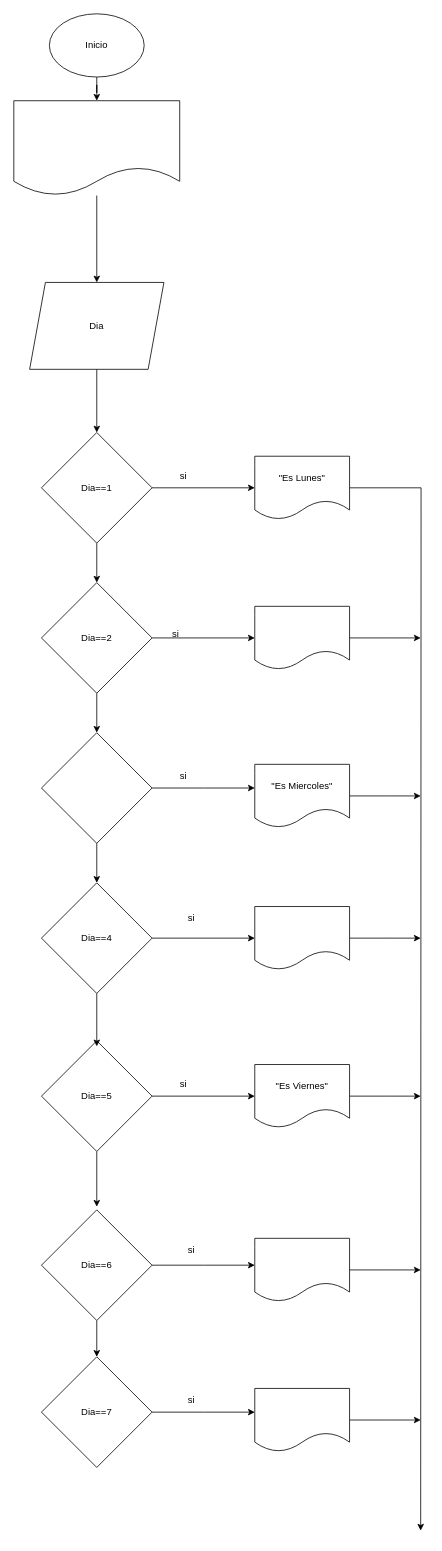
Image size: 442x1551. Some labels were removed from this diagram. The shapes that lost their labels are listed below. From the top down, each one's box as (x1, y1, x2, y2) in pixels, then its label:
(13, 100, 180, 196): "Ingrese un numero del 1 al 7, que represente los días de la semana"
(254, 606, 350, 670): "Es Martes"
(41, 732, 152, 843): Dia==3
(254, 906, 350, 970): "Es Jueves"
(254, 1238, 350, 1302): "Es Sabado"
(254, 1388, 350, 1452): "Es Domingo"
